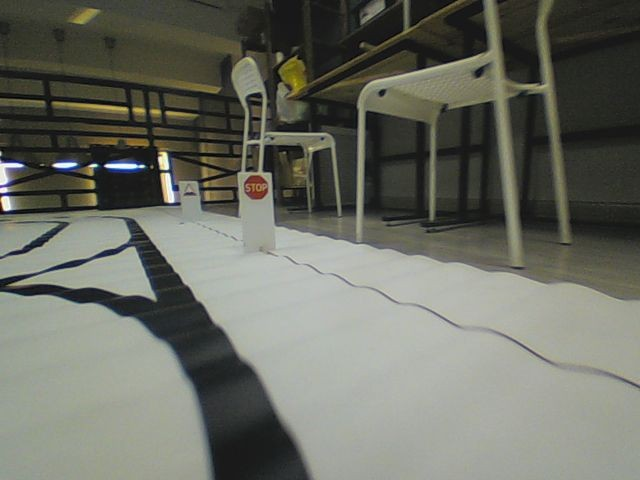Nerov: (182, 182, 196, 197)
Stop: (242, 174, 269, 200)
